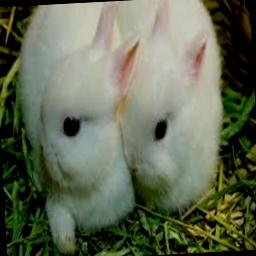rabbit: (17, 0, 138, 254), (117, 0, 223, 211)
